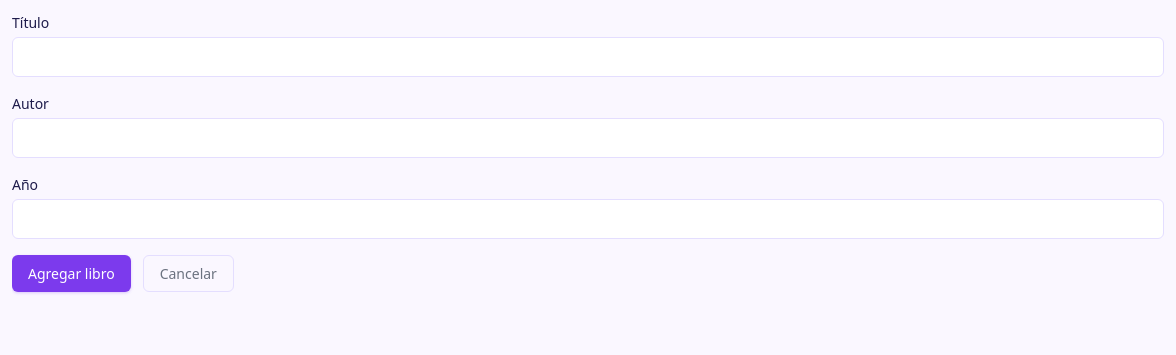
Scenario: BookForm › shows error when title is empty
This screenshot has width=1176, height=355.
Click the button "Agregar libro": coordinates (71, 274) [12, 255, 131, 292]
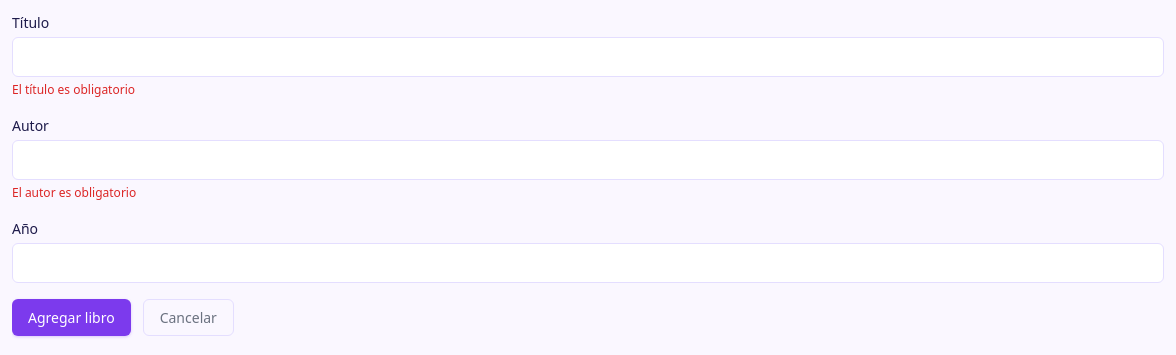
Expected: the text "El título es obligatorio" is shown, [12, 81, 135, 98]
